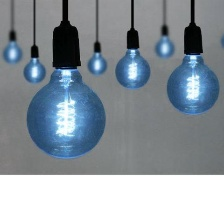light_bulb: (23, 55, 109, 164), (162, 47, 223, 117), (112, 34, 154, 94), (82, 45, 111, 78), (20, 51, 47, 86), (151, 24, 176, 61), (2, 35, 21, 64)
